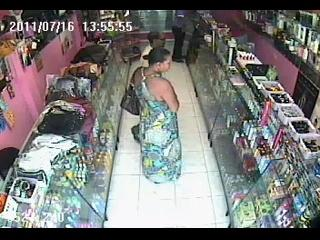Normal: (130, 48, 180, 148), (172, 11, 186, 63)
